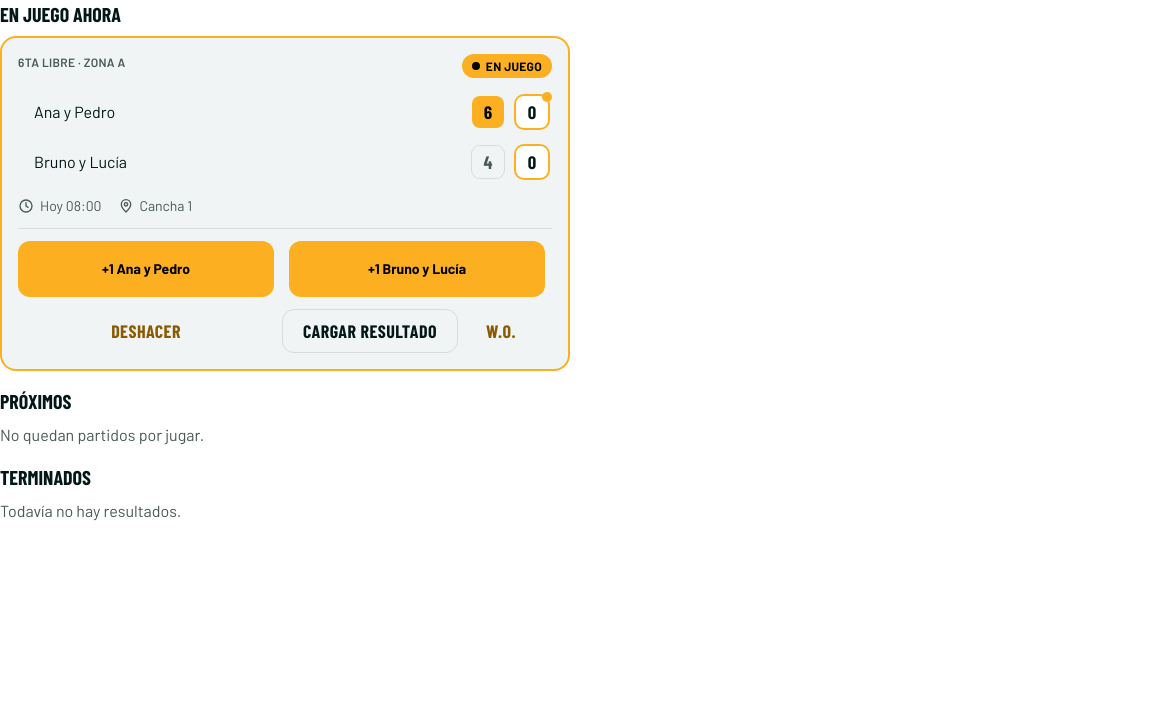
MatchDayBoard live score › opens "Cargar resultado" with the closed sets only, not the one being played
This screenshot has width=1152, height=720.
Click the button "Cargar resultado" at (370, 331), box [282,309,458,353]
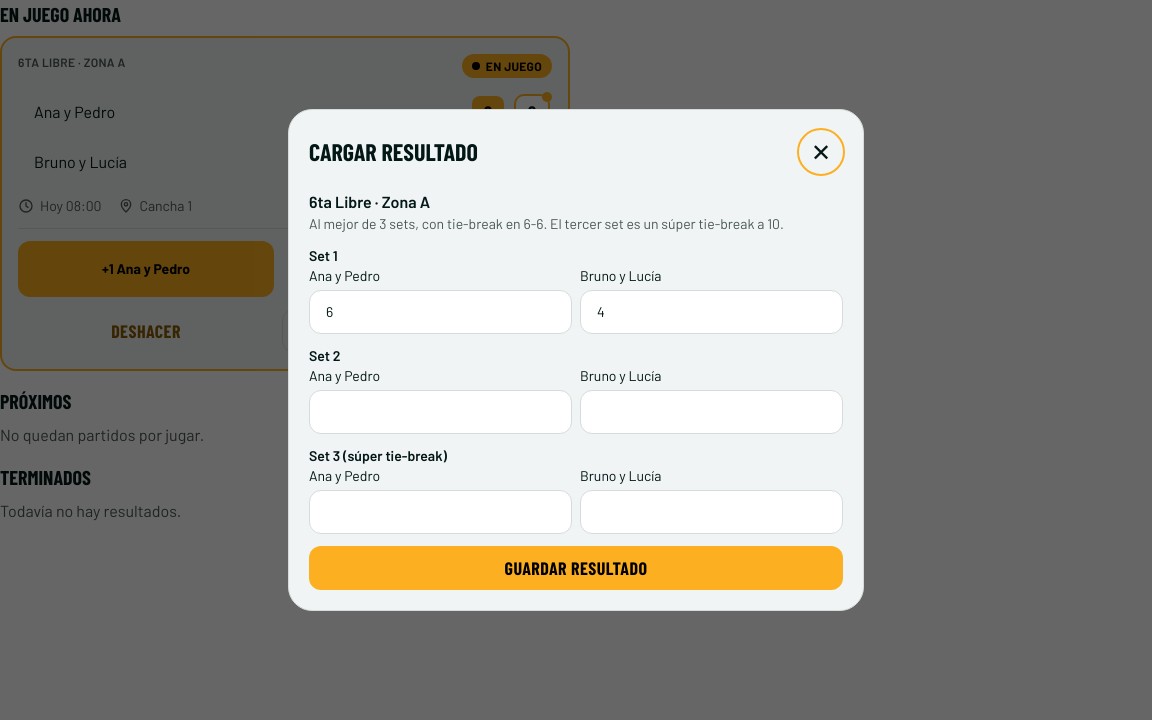
Check: the number field named "Set 1 · Ana y Pedro" holds "6", box [309,290,572,334]
Check: the number field named "Set 2 · Ana y Pedro" is not empty, box [309,390,572,434]
